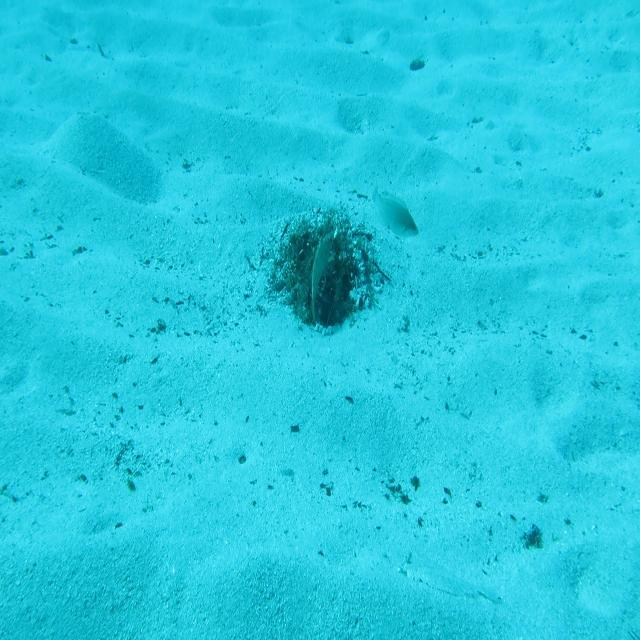LF: (309, 218, 339, 323)
female: (363, 170, 412, 247)
nest: (270, 196, 380, 324)
